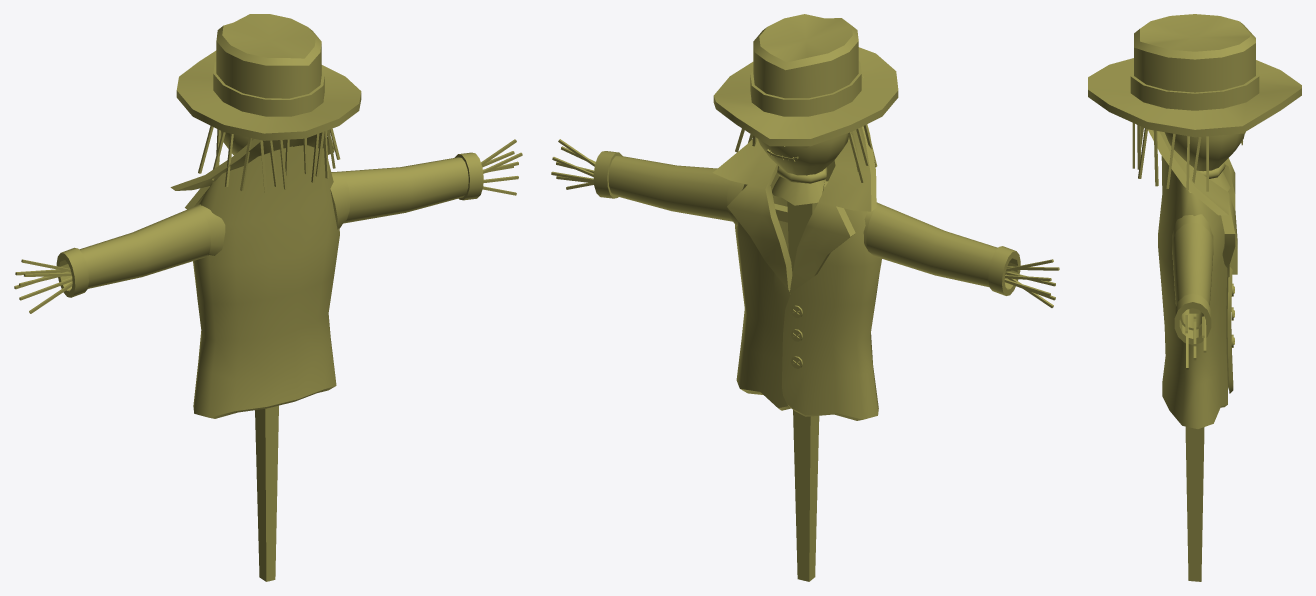
The model's file is Espantapajaro.fbx.
The picture shows the model from 3 angles, left to right: view 1: azimuth 30°, elevation 25°; view 2: azimuth 150°, elevation 25°; view 3: azimuth 270°, elevation 25°; orthographic projection.
Visible parts, largest first — view 1: polySurface23; view 2: polySurface23; view 3: polySurface23.
Boxes of the visible parts, box(x1,y1,x2,y2) form: polySurface23: box(14, 14, 522, 581); polySurface23: box(551, 14, 1059, 581); polySurface23: box(1088, 14, 1301, 581).
Size of the model in its own units: 2.07 by 2.15 by 0.7634.
